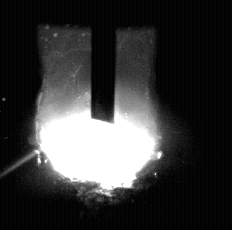arame: (92, 0, 116, 124)
poca: (37, 0, 158, 230)
